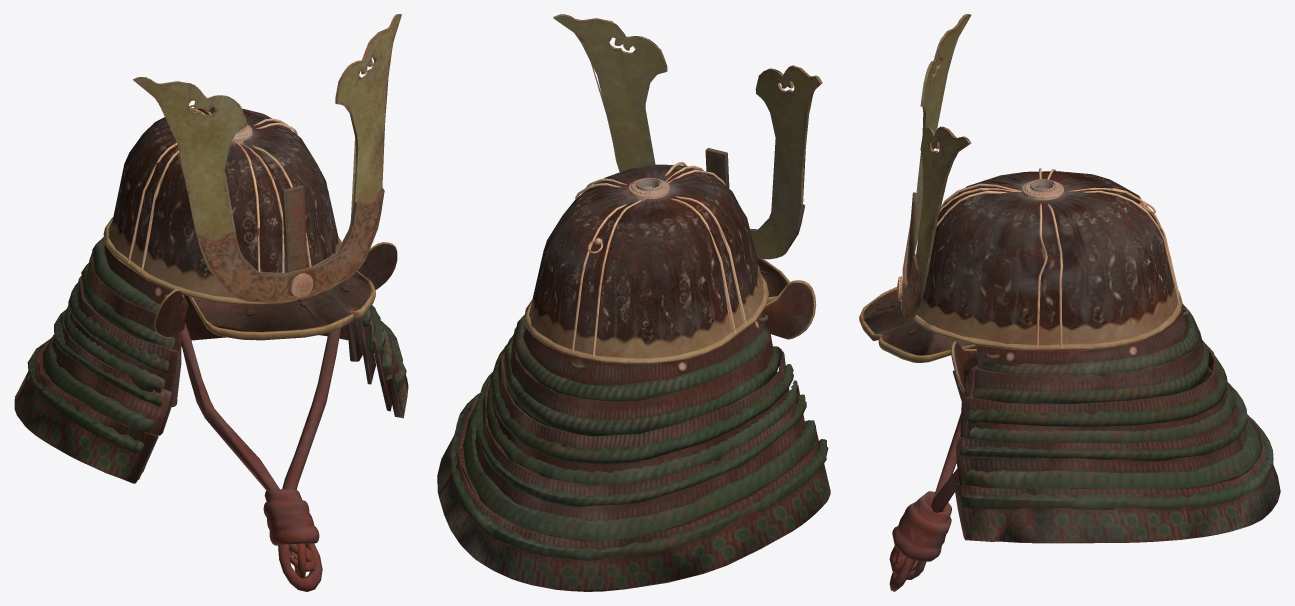
Rendered from mdl_klemes_samurai.glb.
3 views of the same model, side by side, from view 1: azimuth 30°, elevation 25°; view 2: azimuth 150°, elevation 25°; view 3: azimuth 270°, elevation 25° (orthographic).
Visible parts, largest first — view 1: Bentwire_Low; view 2: Bentwire_Low; view 3: Bentwire_Low.
Boxes of the visible parts, x1,y1,x2,y2 form: Bentwire_Low: (14, 14, 408, 591); Bentwire_Low: (437, 14, 830, 591); Bentwire_Low: (859, 14, 1280, 591).
Bounding box in the file's own units: 35.42 × 50.68 × 37.77.
1 material, 1 textured.
